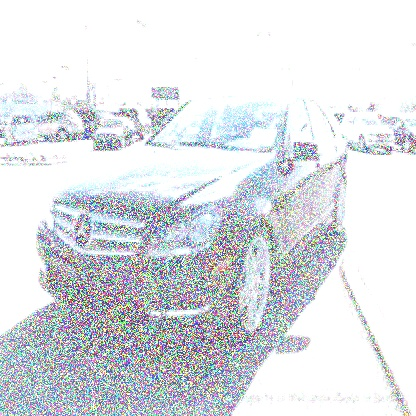Vehicle: (36, 98, 350, 346)
